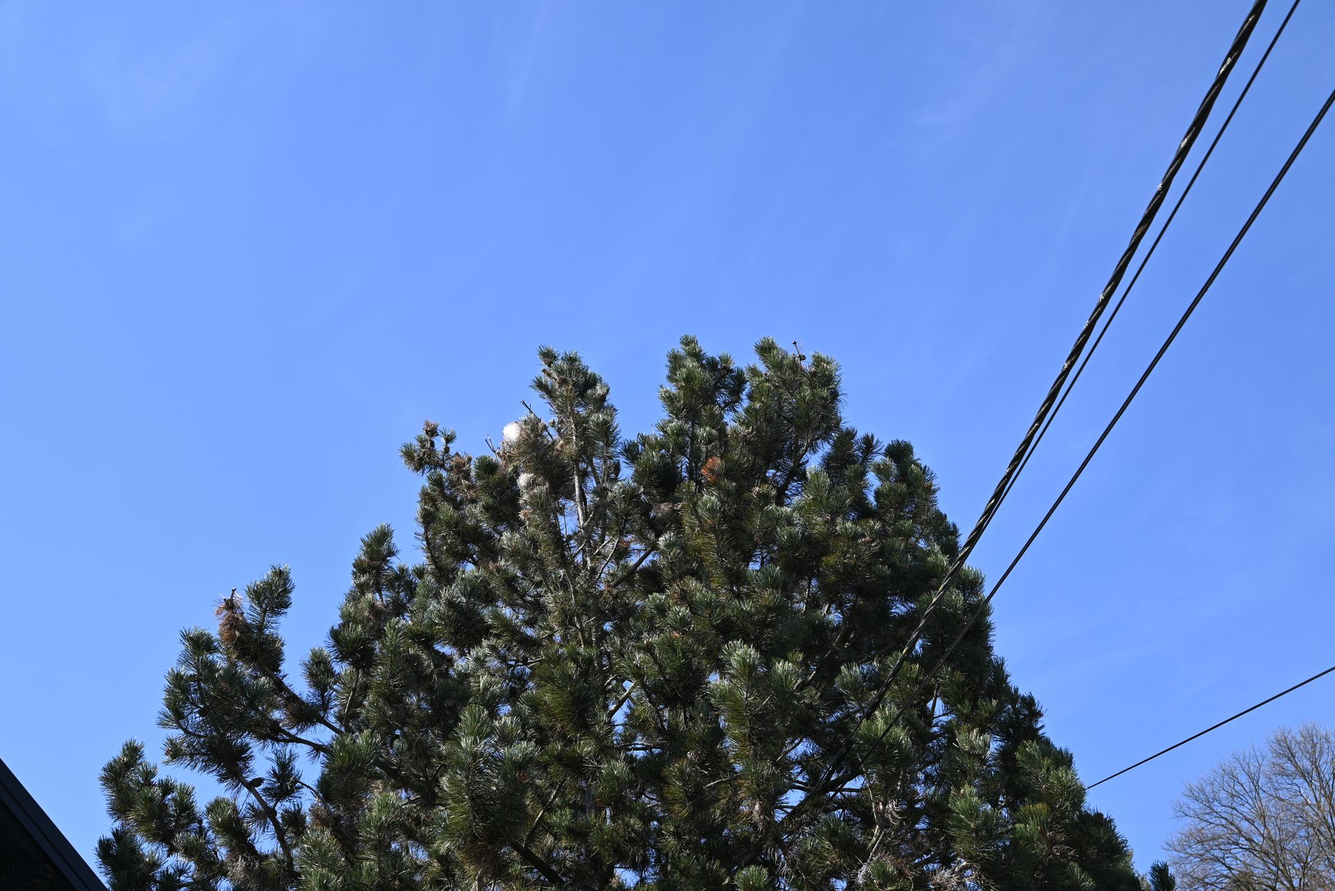thaumatopoea pityocampa jajno gnijezdo: (499, 420, 527, 448), (513, 467, 540, 492)
